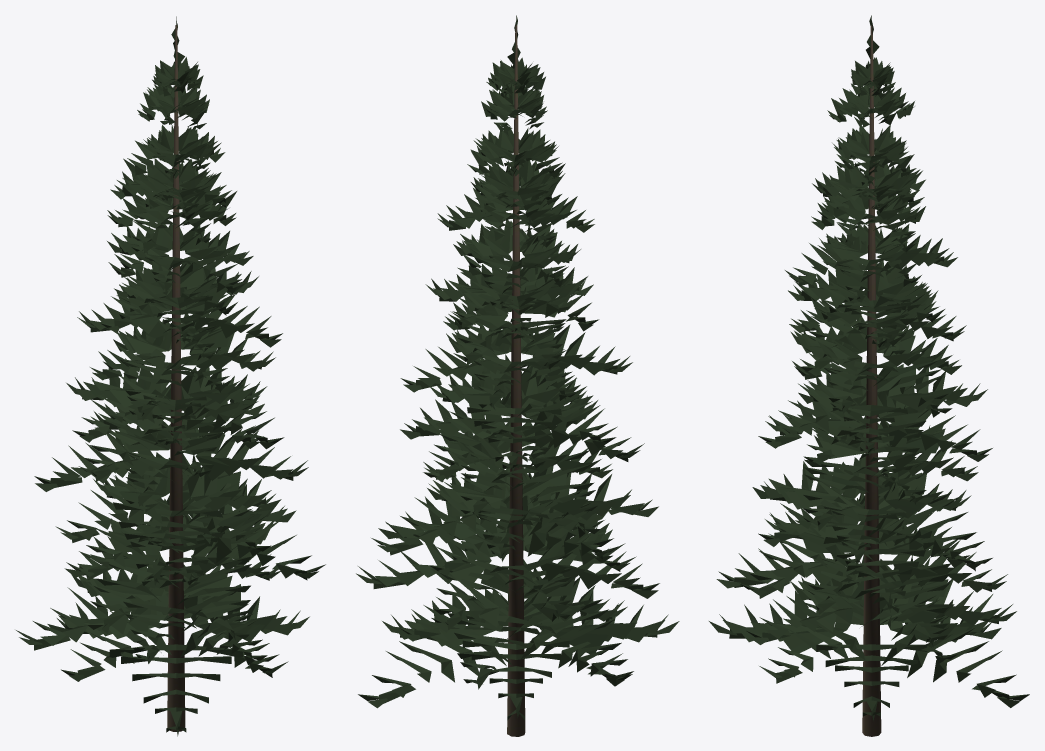
Rendered from forest-fir_mobile.glb.
3 views of the same model, side by side, from view 1: azimuth 30°, elevation 25°; view 2: azimuth 150°, elevation 25°; view 3: azimuth 270°, elevation 25° (orthographic).
Parts seen in each view (by area): view 1: forest-fir-needles, forest-bark; view 2: forest-fir-needles, forest-bark; view 3: forest-fir-needles, forest-bark.
Boxes of the visible parts, x1,y1,x2,y2 form: forest-fir-needles: [16, 16, 325, 736]; forest-bark: [167, 25, 185, 731]; forest-fir-needles: [356, 15, 679, 720]; forest-bark: [507, 25, 525, 736]; forest-fir-needles: [709, 15, 1029, 720]; forest-bark: [862, 25, 881, 736].
Size of the model in its own units: 5.89 by 15.04 by 6.11.
Materials: 2 (1 with a texture image).
